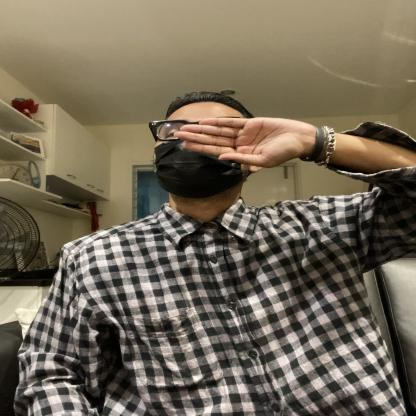Sick: (62, 88, 344, 220)
